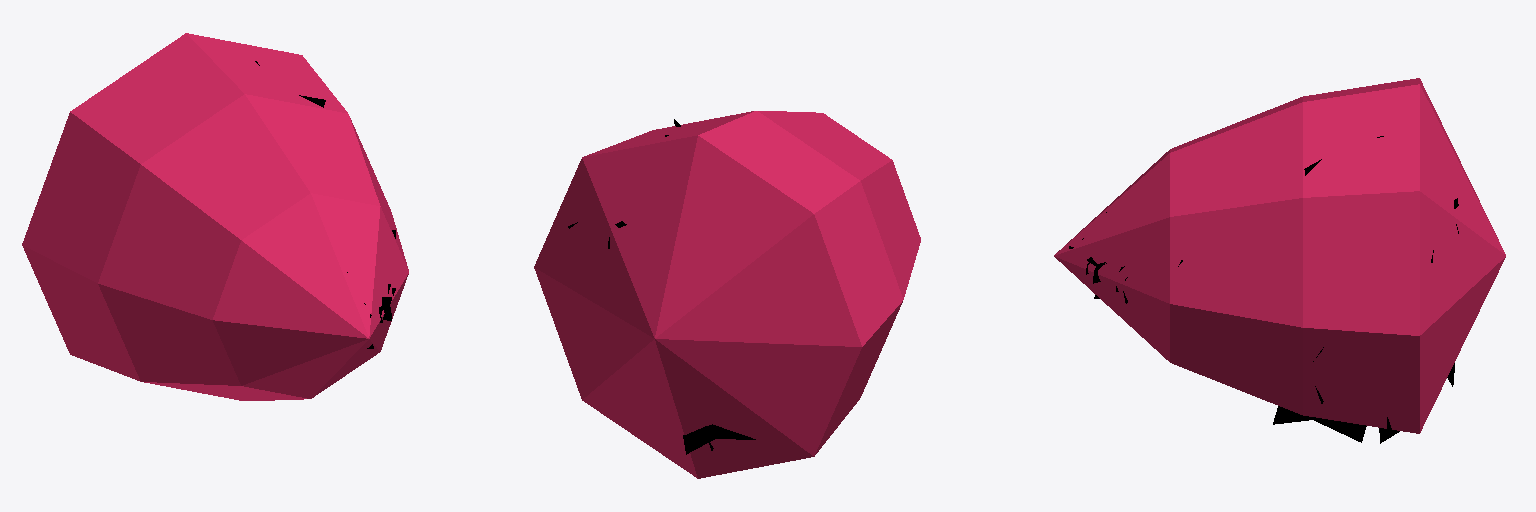
Rendered from HEO_DouglasFir.obj.
3 renders of one model, left to right at view 1: azimuth 30°, elevation 25°; view 2: azimuth 150°, elevation 25°; view 3: azimuth 270°, elevation 25°, orthographic.
Parts seen in each view (by area): view 1: DouglasFir_group DouglasFirTree_helper cryExportNode_DouglasFirT; view 2: DouglasFir_group DouglasFirTree_helper cryExportNode_DouglasFirT; view 3: DouglasFir_group DouglasFirTree_helper cryExportNode_DouglasFirT, DouglasFirTree_helper cryExportNode_DouglasFirTree _lod1_Douglas.
Part boxes in pixels (x1,y1,x2,y2): DouglasFir_group DouglasFirTree_helper cryExportNode_DouglasFirT: (22,33,408,400); DouglasFir_group DouglasFirTree_helper cryExportNode_DouglasFirT: (534,111,920,478); DouglasFir_group DouglasFirTree_helper cryExportNode_DouglasFirT: (1054,78,1505,433); DouglasFirTree_helper cryExportNode_DouglasFirTree _lod1_Douglas: (1087,136,1399,443).
Size of the model in its own units: 1000 by 1000 by 1195.